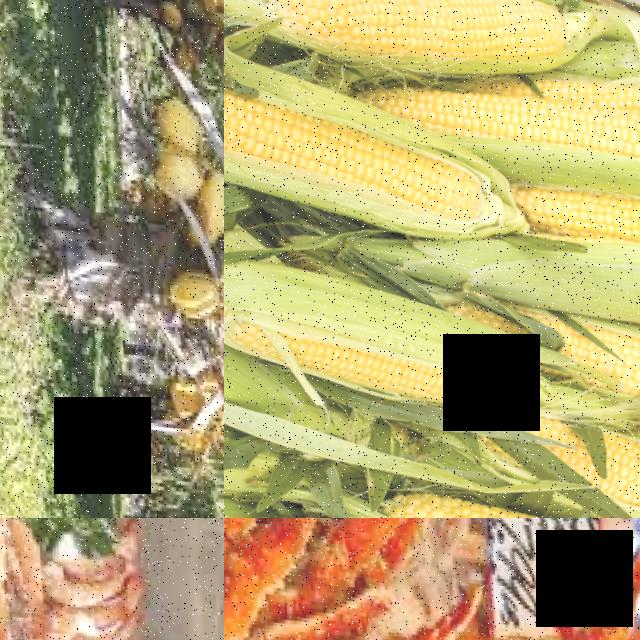coconut: (161, 257, 220, 320), (143, 140, 200, 198), (154, 91, 207, 144), (200, 161, 224, 236)
corn: (224, 41, 478, 219), (225, 302, 533, 411), (365, 60, 640, 159), (263, 0, 565, 64), (497, 276, 640, 393), (512, 396, 640, 501), (391, 471, 640, 518), (505, 165, 640, 243)
crab: (224, 518, 467, 640)
